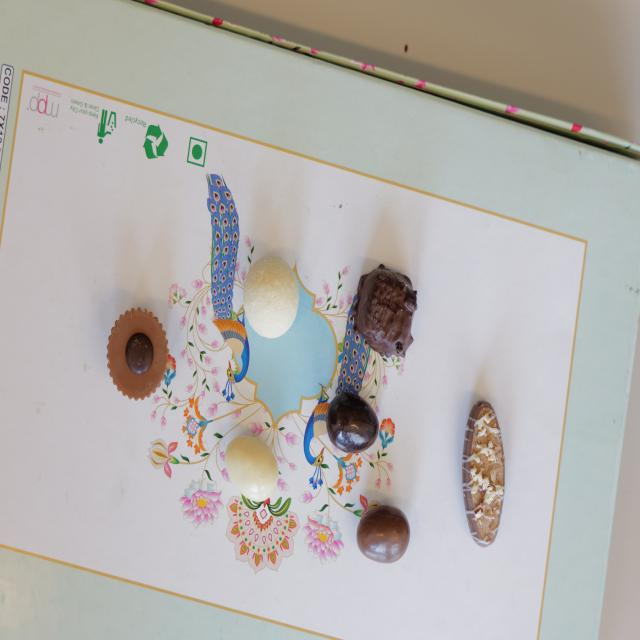Amandina: (464, 398, 506, 548)
Comtesse: (246, 258, 299, 338)
Jelly_Black: (326, 394, 380, 452)
Jelly_Milk: (356, 506, 412, 564)
Jelly_White: (227, 438, 278, 500)
Noblesse: (107, 308, 169, 399)
Tentation_noir: (356, 264, 416, 358)
